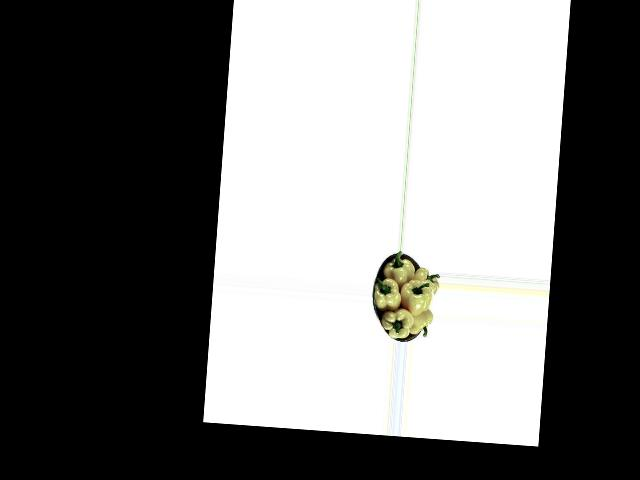bell_pepper: (410, 263, 440, 294)
